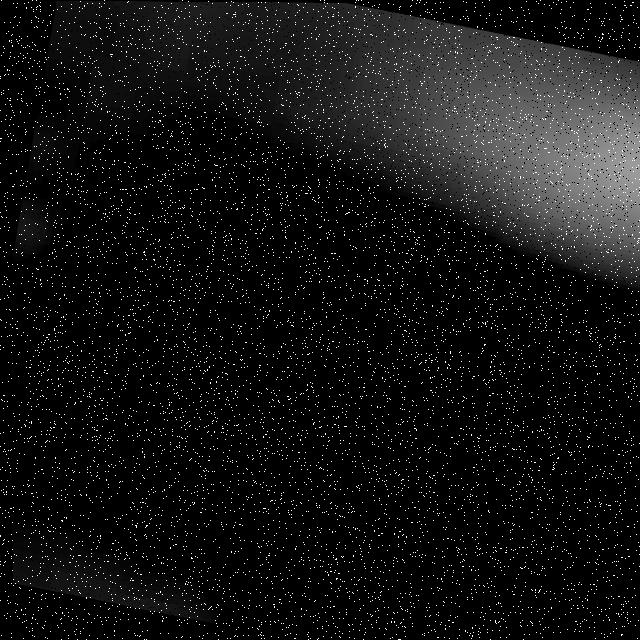person: (433, 44, 640, 283)
